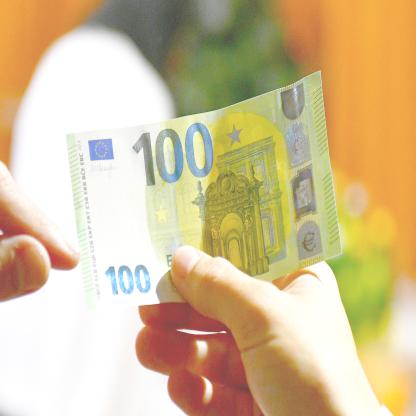euro_banknote: (63, 101, 350, 295)
